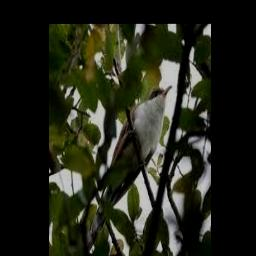Cuckoo: (85, 84, 172, 250)
